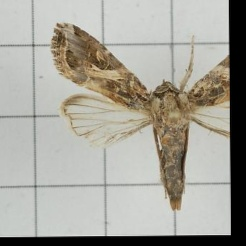Spodoptera litura: (48, 20, 229, 211)
